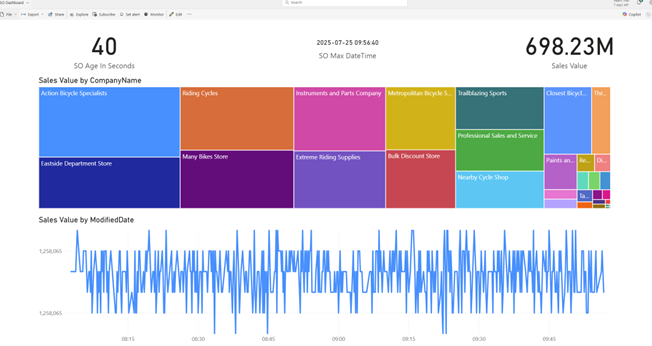

What the dashboard file says about the page in this screenshot:
{"tool":"powerbi","page":{"name":"SO Dashboard","canvas":[1280,720],"ordinal":0},"visuals":[{"type":"card","fields":{"Values":["SalesOrder.SO Age In Seconds"]},"box":[9.7,0,280,123.1],"z":0},{"type":"card","fields":{"Values":["SalesOrder.SO Max DateTime"]},"box":[301.2,0,769,123.1],"z":1},{"type":"card","fields":{"Values":["SalesOrder.Sales Value"]},"box":[1070.2,0,210,123.1],"z":2},{"type":"treemap","fields":{"Group":["Customer.CompanyName"],"Values":["SalesOrder.Sales Value"]},"box":[0,123.1,1270.4,296.8],"z":5},{"type":"lineChart","fields":{"Category":["SalesOrder.ModifiedDate"],"Y":["SalesOrder.Sales Value"]},"box":[0,429.7,1270.4,290.6],"z":6}]}

Visuals, with their boxes on the page's 1280x720 design canvas (x1, y1, x2, y2). These are canvas units, not pixel positions in the 652x346 screenshot, which may show the page scaled, cropped or inside an application window:
card - SalesOrder.SO Age In Seconds: 10, 0, 290, 123
card - SalesOrder.SO Max DateTime: 301, 0, 1070, 123
card - SalesOrder.Sales Value: 1070, 0, 1280, 123
treemap - Customer.CompanyName x SalesOrder.Sales Value: 0, 123, 1270, 420
lineChart - SalesOrder.ModifiedDate x SalesOrder.Sales Value: 0, 430, 1270, 720
